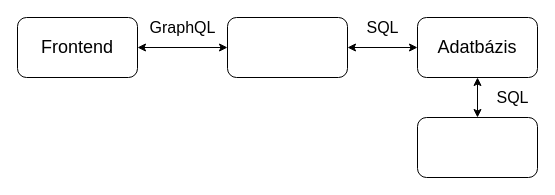
The diagram is 555 pixels wide and 195 high, and some of its shapes have lost their labels. The shapes that lost their labels are listed below. From the top down, each one's box as (x1, y1, x2, y2) in pixels, then its label:
(226, 16, 348, 78): Backend
(416, 116, 538, 178): Prisma Studio
